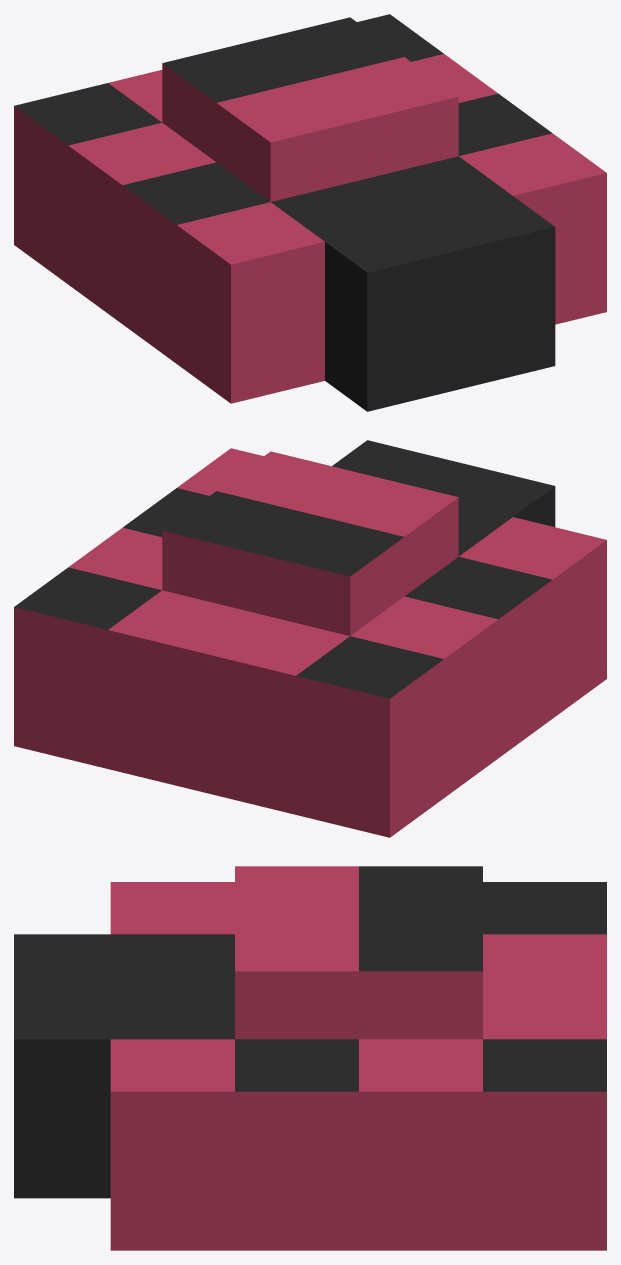
File: bug1.obj
3 renders of one model, top to bottom at view 1: azimuth 30°, elevation 25°; view 2: azimuth 150°, elevation 25°; view 3: azimuth 270°, elevation 25°, orthographic. The views are drawn at different scales.
Visible parts, largest first — view 1: bug1.002, bug1.001; view 2: bug1.002, bug1.001; view 3: bug1.002, bug1.001.
Part boxes in pixels (<box>): bug1.002: <box>14,54,606,403</box>; bug1.001: <box>14,14,555,411</box>; bug1.002: <box>14,448,606,837</box>; bug1.001: <box>14,440,555,698</box>; bug1.002: <box>110,866,606,1250</box>; bug1.001: <box>14,866,606,1198</box>.
Bounding box in the file's own units: 2 × 1.01 × 2.39.
